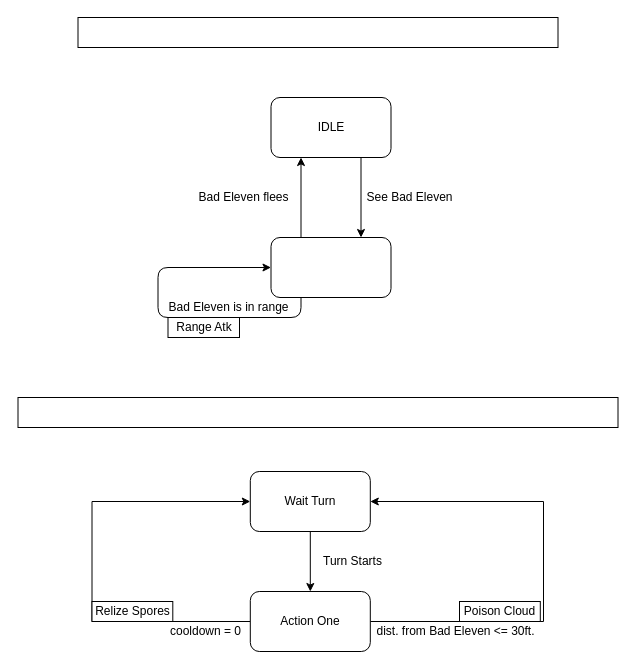
The diagram is 635 pixels wide and 669 high, and some of its shapes have lost their labels. The shapes that lost their labels are listed below. From the top down, each one's centre as x and y in pixels, then its label:
(x=317, y=32): Free Roaming
(x=330, y=267): AGGRESSIVE
(x=317, y=412): Battle Mode
